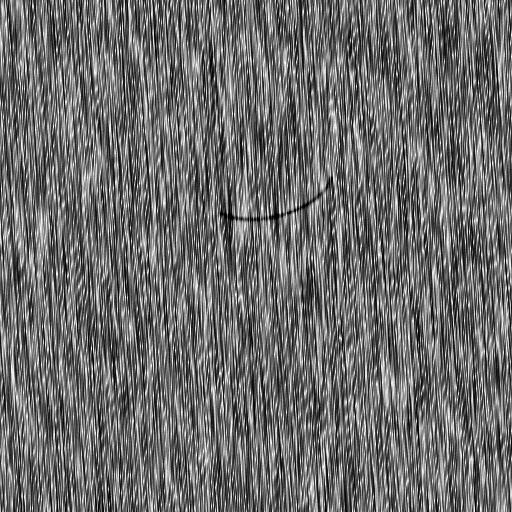DefectTypeC: (216, 179, 334, 224)
